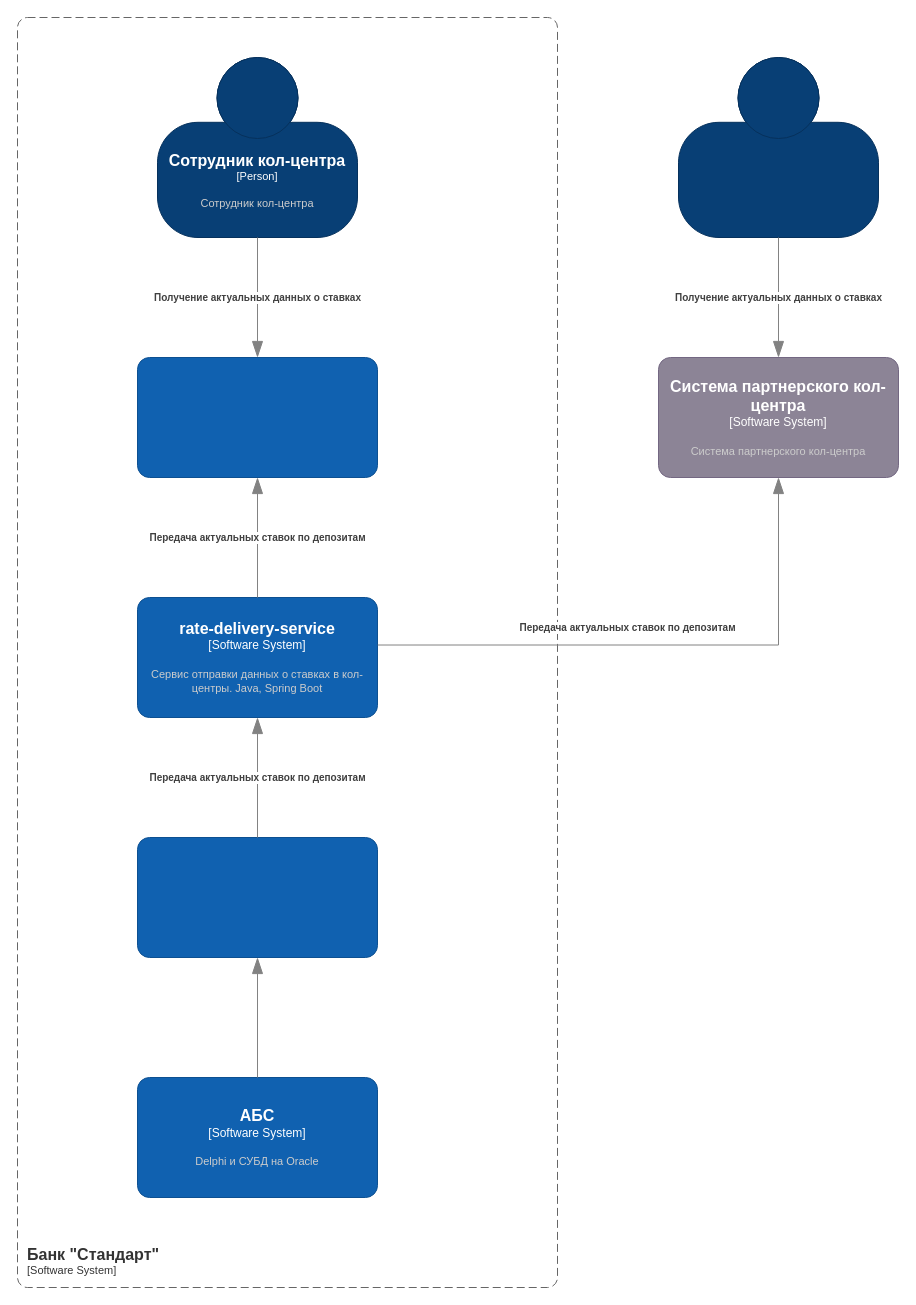
The diagram is 916 pixels wide and 1305 high, and some of its shapes have lost their labels. Here are the shapes that lost their labels. From the top down, the centre of each, then its label:
At pixel 778 147: "Сотрудник партнерского кол-центра [Person] Сотрудник партнерского кол-центра".
At pixel 257 417: "Кол-центр [Software System] Кол-центр".
At pixel 257 897: "deposit-service [Software System] Java, Spring Boot".
